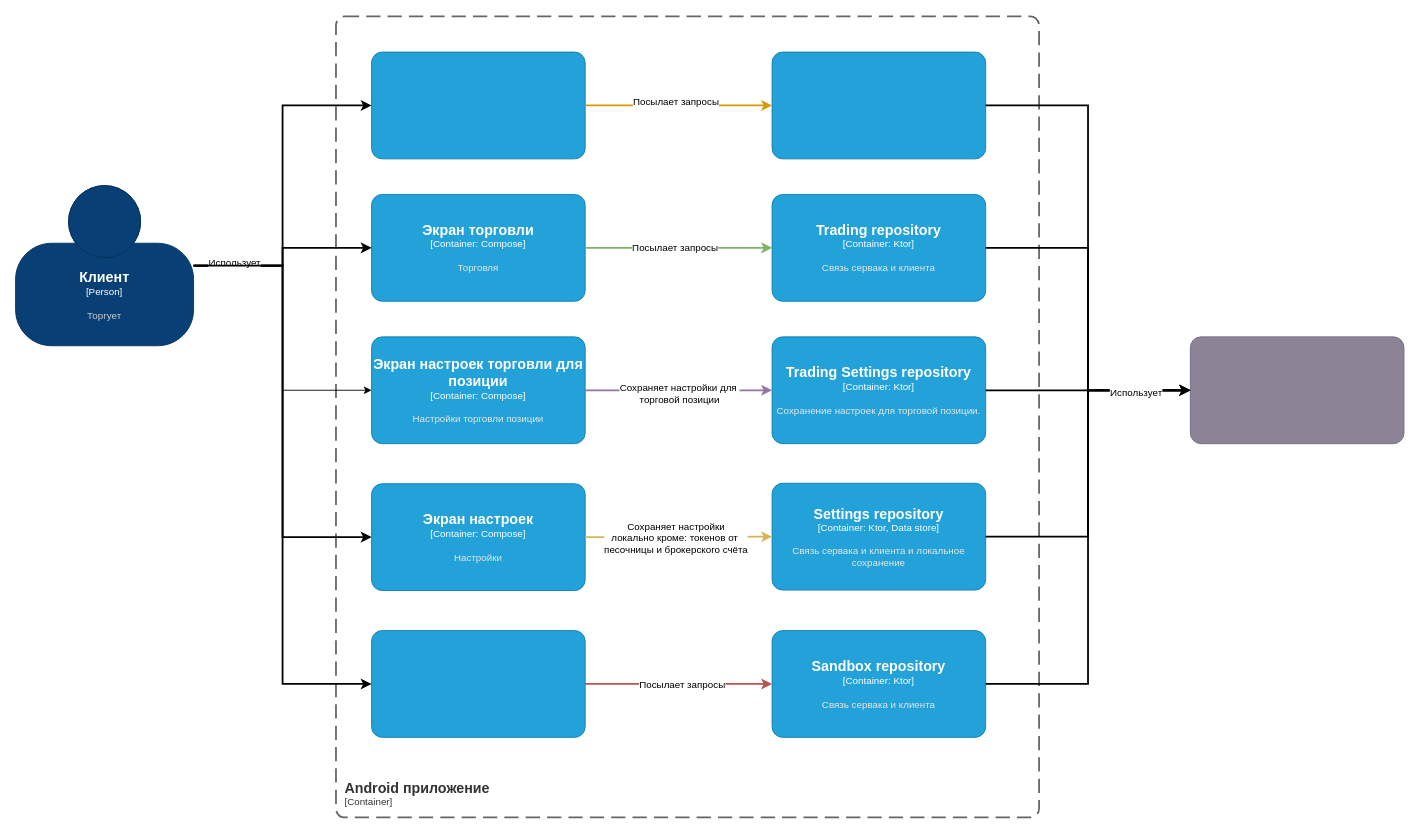
Image size: 1420x833. Some labels were removed from this diagram. Each missing label, with the centre of its shape:
Auth repository [Container: Ktor] Связь сервака и клиента: pixel 878 105
Сервер для торговли [Software System] Торговля, авторизация: pixel 1296 390
Экран авторизации [Container: Compose] Авторизация и вход: pixel 478 105
Экран торговли в песочнице [Container: Compose] Торговля в песочнице: pixel 478 683
